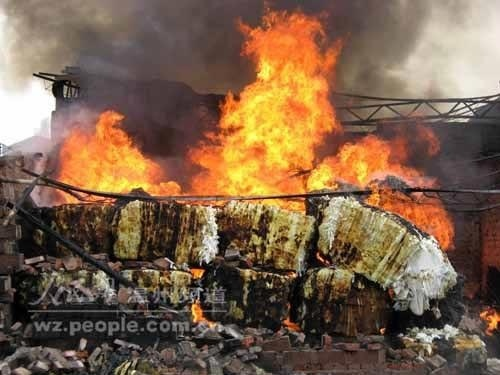fire: (188, 6, 344, 197), (51, 108, 184, 200), (186, 267, 215, 326), (479, 305, 500, 333)
